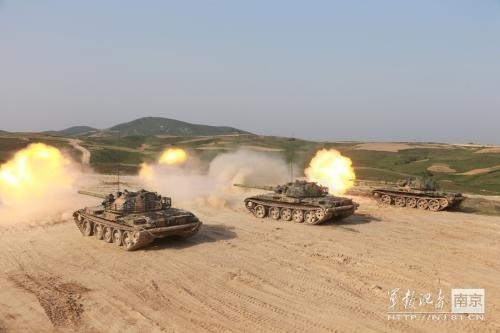fire: (0, 142, 70, 196), (303, 147, 357, 197), (146, 146, 188, 169), (160, 146, 186, 162)
